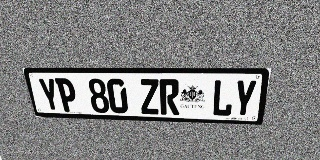0: (106, 79, 128, 114)
8: (87, 78, 110, 113)
L: (211, 80, 235, 117)
P: (55, 78, 79, 112)
R: (159, 79, 179, 115)
Y: (232, 80, 258, 117), (37, 78, 62, 112)
Z: (139, 79, 160, 114)
